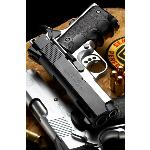Pistol: (32, 3, 121, 130), (26, 66, 122, 150)
